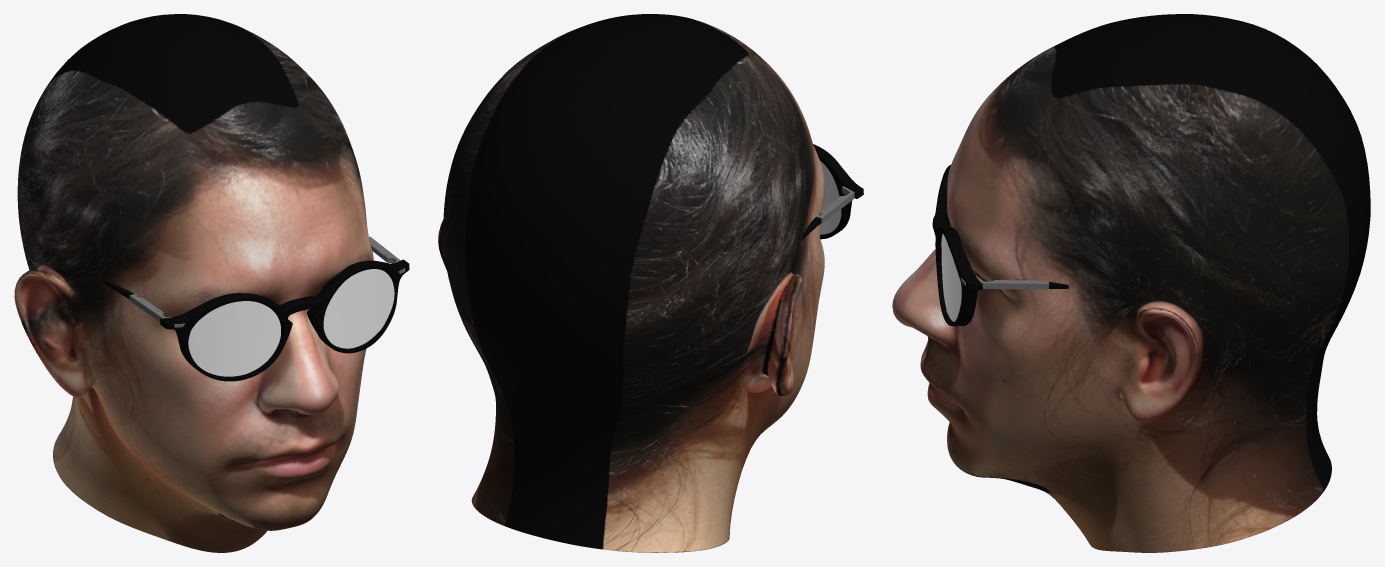
File: myHead.glb
3 views of the same model, side by side, from view 1: azimuth 30°, elevation 25°; view 2: azimuth 150°, elevation 25°; view 3: azimuth 270°, elevation 25° (orthographic). The views are drawn at different scales.
Visible parts, largest first — view 1: FaceBuilderHead, glass.001, structure.001; view 2: FaceBuilderHead, structure.001, glass.001; view 3: FaceBuilderHead, structure.001, glass.001, pin3.001.
Boxes of the visible parts, x1,y1,x2,y2 form: FaceBuilderHead: (14,14,373,552); glass.001: (188,269,394,376); structure.001: (160,259,409,381); FaceBuilderHead: (438,14,825,552); structure.001: (813,144,863,239); glass.001: (820,161,841,234); FaceBuilderHead: (892,14,1370,552); structure.001: (932,165,982,326); glass.001: (941,234,961,321); pin3.001: (976,275,1048,289).
Bounding box in the file's own units: 1.78 × 2.5 × 2.12.
Materials: 8 (1 with a texture image).
